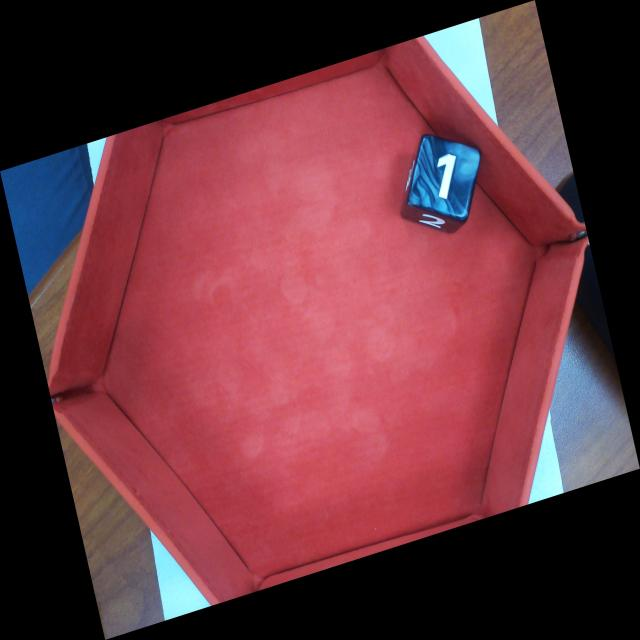dice: (413, 137, 478, 216)
